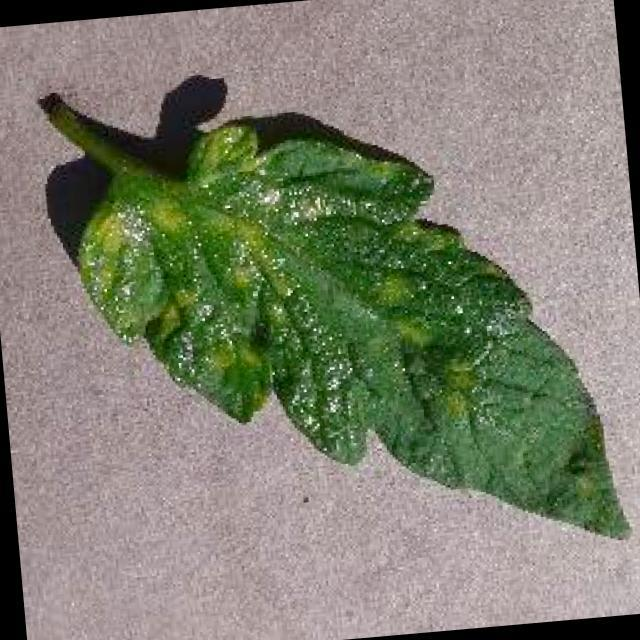Tomato mold leaf: (61, 95, 632, 586)
